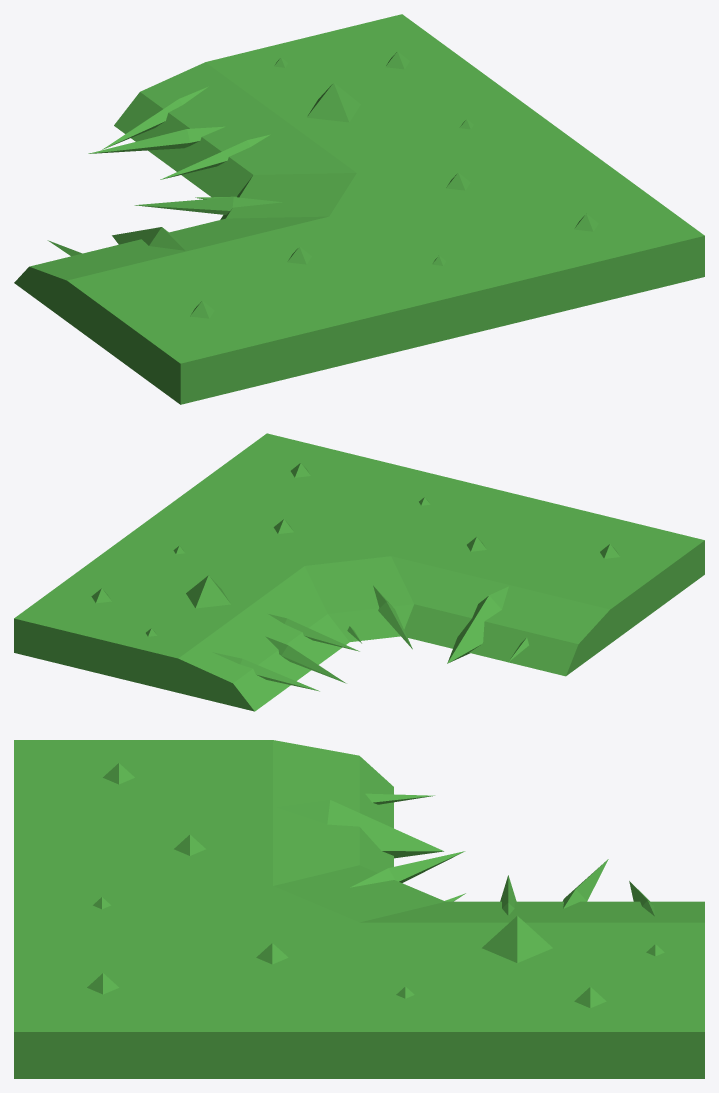
The model's file is Floor-Outdoor-4x4x1-Grass-Corner-Concave.FBX.
3 renders of one model, top to bottom at view 1: azimuth 30°, elevation 25°; view 2: azimuth 150°, elevation 25°; view 3: azimuth 270°, elevation 25°, orthographic. The views are drawn at different scales.
Visible parts, largest first — view 1: Floor-Outdoor-4x4x1-Grass-Corner-Concave; view 2: Floor-Outdoor-4x4x1-Grass-Corner-Concave; view 3: Floor-Outdoor-4x4x1-Grass-Corner-Concave.
Part boxes in pixels (bbox=[...]): Floor-Outdoor-4x4x1-Grass-Corner-Concave: bbox=[14, 14, 704, 404]; Floor-Outdoor-4x4x1-Grass-Corner-Concave: bbox=[14, 433, 704, 711]; Floor-Outdoor-4x4x1-Grass-Corner-Concave: bbox=[14, 740, 704, 1078].
Bounding box in the file's own units: 40 × 6.03 × 40.
